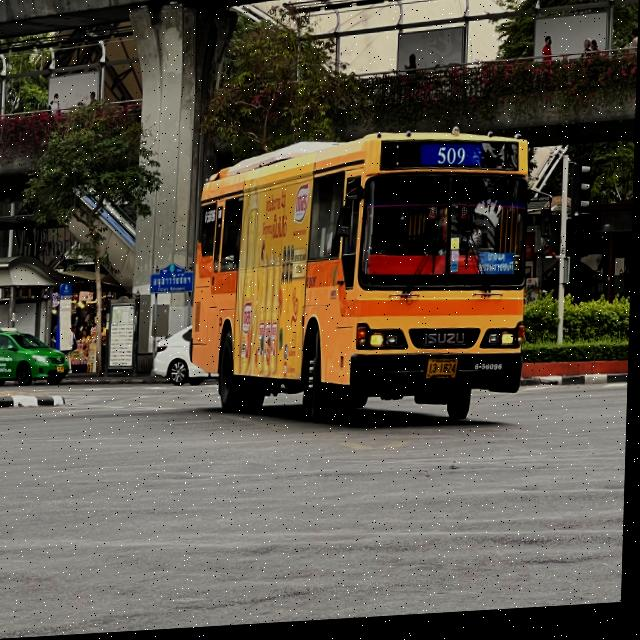BMTA-bus: (192, 136, 534, 429)
Bus Line Number: (432, 148, 471, 174)
Bus Side Number: (473, 362, 509, 381)
Destination Sign: (481, 257, 516, 282)
